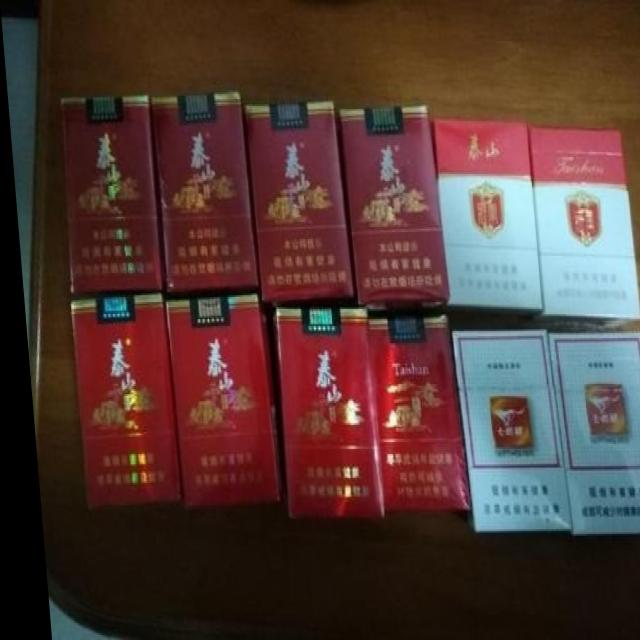box: (159, 295, 282, 531), (65, 294, 179, 527), (445, 329, 564, 532), (520, 125, 633, 331), (335, 108, 445, 319), (243, 99, 350, 312), (269, 309, 375, 521), (147, 94, 255, 302), (429, 119, 536, 324), (54, 90, 157, 297), (360, 316, 464, 512), (542, 331, 640, 536)
